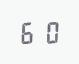six: (19, 20, 38, 44)
zero: (39, 20, 58, 43)
